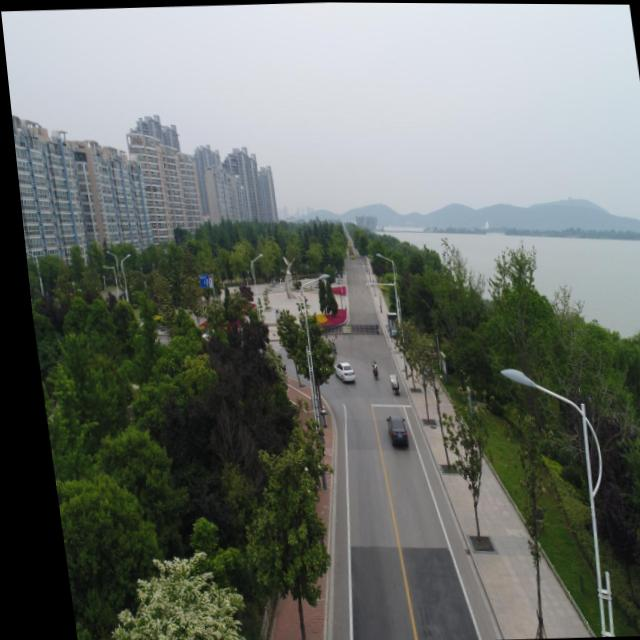Person: (362, 359, 369, 374), (381, 374, 388, 387), (384, 376, 390, 388), (323, 337, 327, 349), (324, 339, 328, 349), (366, 364, 369, 374), (266, 278, 269, 288), (273, 277, 276, 287)
